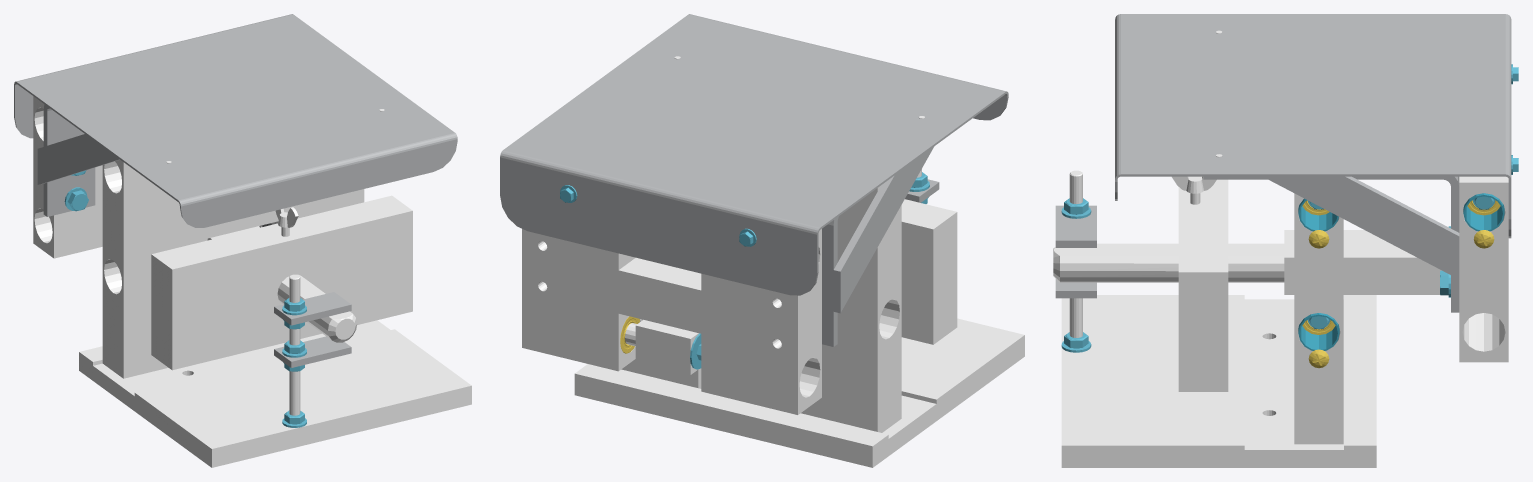
Rendered from piece.glb.
3 renders of one model, left to right at view 1: azimuth 30°, elevation 25°; view 2: azimuth 150°, elevation 25°; view 3: azimuth 270°, elevation 25°, orthographic. The views are drawn at different scales.
Parts seen in each view (by area): view 1: Node #141, Node #0, Node #55, Node #1, Node #21, Node #100, Node #99, Node #53, Node #124, Node #107, Node #58; view 2: Node #141, Node #21, Node #0, Node #1, Node #55, Node #100, Node #53, Node #99; view 3: Node #141, Node #0, Node #53, Node #55, Node #1, Node #21, Node #94, Node #124, Node #93, Node #58, Node #163, Node #6 (+3 smaller).
Boxes of the visible parts, left/top/right/bottom form: Node #141: left=14, top=14, right=457, bottom=227; Node #0: left=79, top=320, right=471, bottom=467; Node #55: left=151, top=195, right=412, bottom=370; Node #1: left=102, top=160, right=364, bottom=378; Node #21: left=33, top=96, right=102, bottom=258; Node #100: left=37, top=134, right=119, bottom=184; Node #99: left=43, top=104, right=95, bottom=216; Node #53: left=207, top=226, right=357, bottom=342; Node #124: left=274, top=292, right=351, bottom=325; Node #107: left=274, top=336, right=351, bottom=367; Node #58: left=289, top=274, right=300, bottom=415; Node #141: left=500, top=14, right=1008, bottom=295; Node #21: left=522, top=229, right=821, bottom=414; Node #0: left=574, top=318, right=1024, bottom=467; Node #1: left=621, top=185, right=901, bottom=432; Node #55: left=901, top=199, right=957, bottom=344; Node #100: left=833, top=147, right=933, bottom=313; Node #53: left=635, top=319, right=698, bottom=374; Node #99: left=822, top=216, right=838, bottom=346; Node #141: left=1115, top=14, right=1511, bottom=238; Node #0: left=1061, top=295, right=1376, bottom=467; Node #53: left=1053, top=230, right=1441, bottom=294; Node #55: left=1178, top=176, right=1228, bottom=391; Node #1: left=1294, top=193, right=1343, bottom=444; Node #21: left=1459, top=176, right=1508, bottom=362; Node #94: left=1263, top=176, right=1459, bottom=279; Node #124: left=1055, top=205, right=1096, bottom=247; Node #93: left=1203, top=176, right=1459, bottom=312; Node #58: left=1069, top=170, right=1082, bottom=337; Node #163: left=1463, top=193, right=1504, bottom=231; Node #6: left=1298, top=313, right=1339, bottom=350.
Bounding box in the file's own units: 0.23 × 0.1998 × 0.282.
